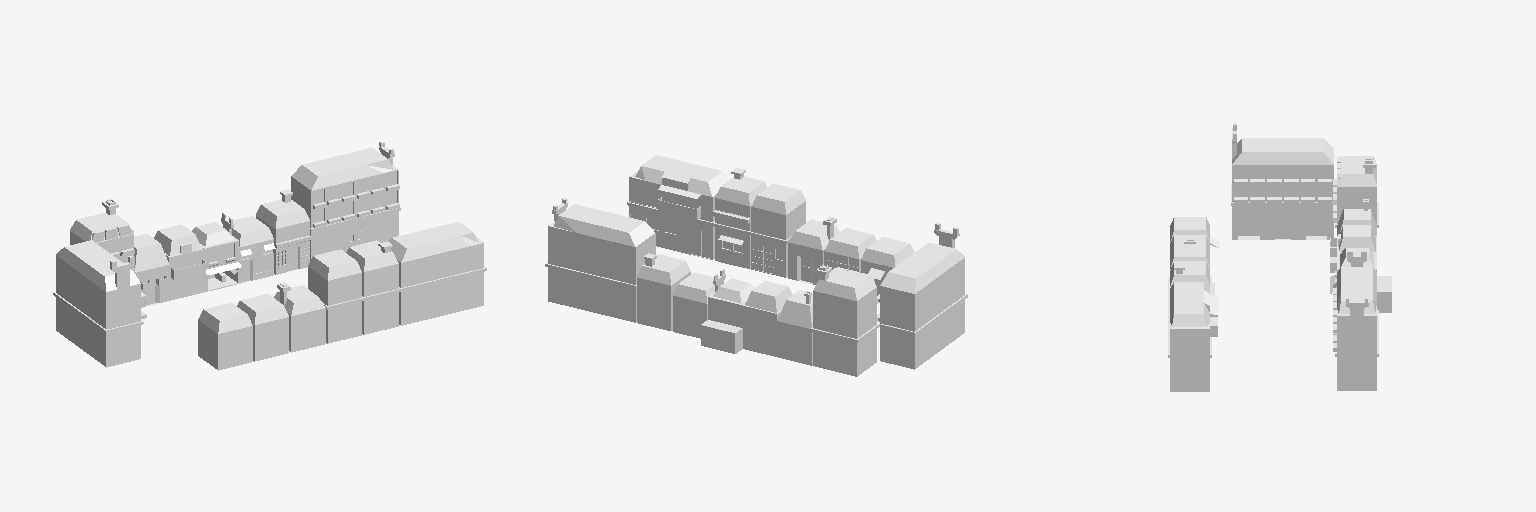
3 views of the same model, side by side, from view 1: azimuth 30°, elevation 25°; view 2: azimuth 150°, elevation 25°; view 3: azimuth 270°, elevation 25° (orthographic).
Parts seen in each view (by area): view 1: Cube3_copy6, Cube3_copy8, Cube3_copy16, Cube3_copy14, Cube3_copy15, Cube3_copy11, Cube3_copy5, Cube2, Cube4, Cube3_copy13, Cube3_copy12, Cube3_copy7 (+2 smaller); view 2: Cube3_copy6, Cube3_copy8, Cube3_copy16, Cube3_copy7, Cube3_copy14, Cube3_copy15, Cube3_copy5, Cube4, Cube2, Cube3, Cube3_copy13, Cube3_copy4 (+2 smaller); view 3: Cube3_copy8, Cube3_copy6, Cube3_copy16, Cube3_copy7, Cube4, Cube2, Cube3_copy15, Cube3_copy11, Cube3_copy14, Cube3.
Part boxes in pixels (left/top/right/bottom): Cube3_copy6: left=291, top=142, right=400, bottom=260; Cube3_copy8: left=53, top=240, right=146, bottom=367; Cube3_copy16: left=388, top=222, right=486, bottom=325; Cube3_copy14: left=308, top=249, right=363, bottom=343; Cube3_copy15: left=346, top=240, right=400, bottom=334; Cube3_copy11: left=198, top=302, right=252, bottom=370; Cube3_copy5: left=256, top=190, right=310, bottom=274; Cube2: left=154, top=224, right=205, bottom=300; Cube4: left=192, top=212, right=241, bottom=291; Cube3_copy13: left=274, top=282, right=325, bottom=352; Cube3_copy12: left=237, top=294, right=288, bottom=361; Cube3_copy7: left=70, top=199, right=135, bottom=273; Cube3_copy6: left=545, top=198, right=655, bottom=322; Cube3_copy8: left=877, top=222, right=967, bottom=369; Cube3_copy16: left=627, top=155, right=729, bottom=259; Cube3_copy7: left=810, top=264, right=879, bottom=376; Cube3_copy14: left=751, top=184, right=805, bottom=277; Cube3_copy15: left=713, top=168, right=766, bottom=268; Cube3_copy5: left=637, top=253, right=690, bottom=330; Cube4: left=701, top=269, right=754, bottom=353; Cube2: left=743, top=281, right=792, bottom=356; Cube3: left=777, top=290, right=812, bottom=365; Cube3_copy13: left=788, top=216, right=839, bottom=284; Cube3_copy4: left=673, top=272, right=714, bottom=338; Cube3_copy8: left=1231, top=123, right=1333, bottom=239; Cube3_copy6: left=1333, top=267, right=1378, bottom=390; Cube3_copy16: left=1168, top=282, right=1217, bottom=391; Cube3_copy7: left=1333, top=156, right=1378, bottom=227; Cube4: left=1330, top=248, right=1391, bottom=312; Cube2: left=1330, top=225, right=1376, bottom=272; Cube3_copy15: left=1168, top=261, right=1214, bottom=312; Cube3_copy11: left=1170, top=217, right=1219, bottom=247; Cube3_copy14: left=1168, top=244, right=1211, bottom=295; Cube3: left=1330, top=199, right=1376, bottom=246.
Size of the model in its own units: 2759 by 779 by 1524.